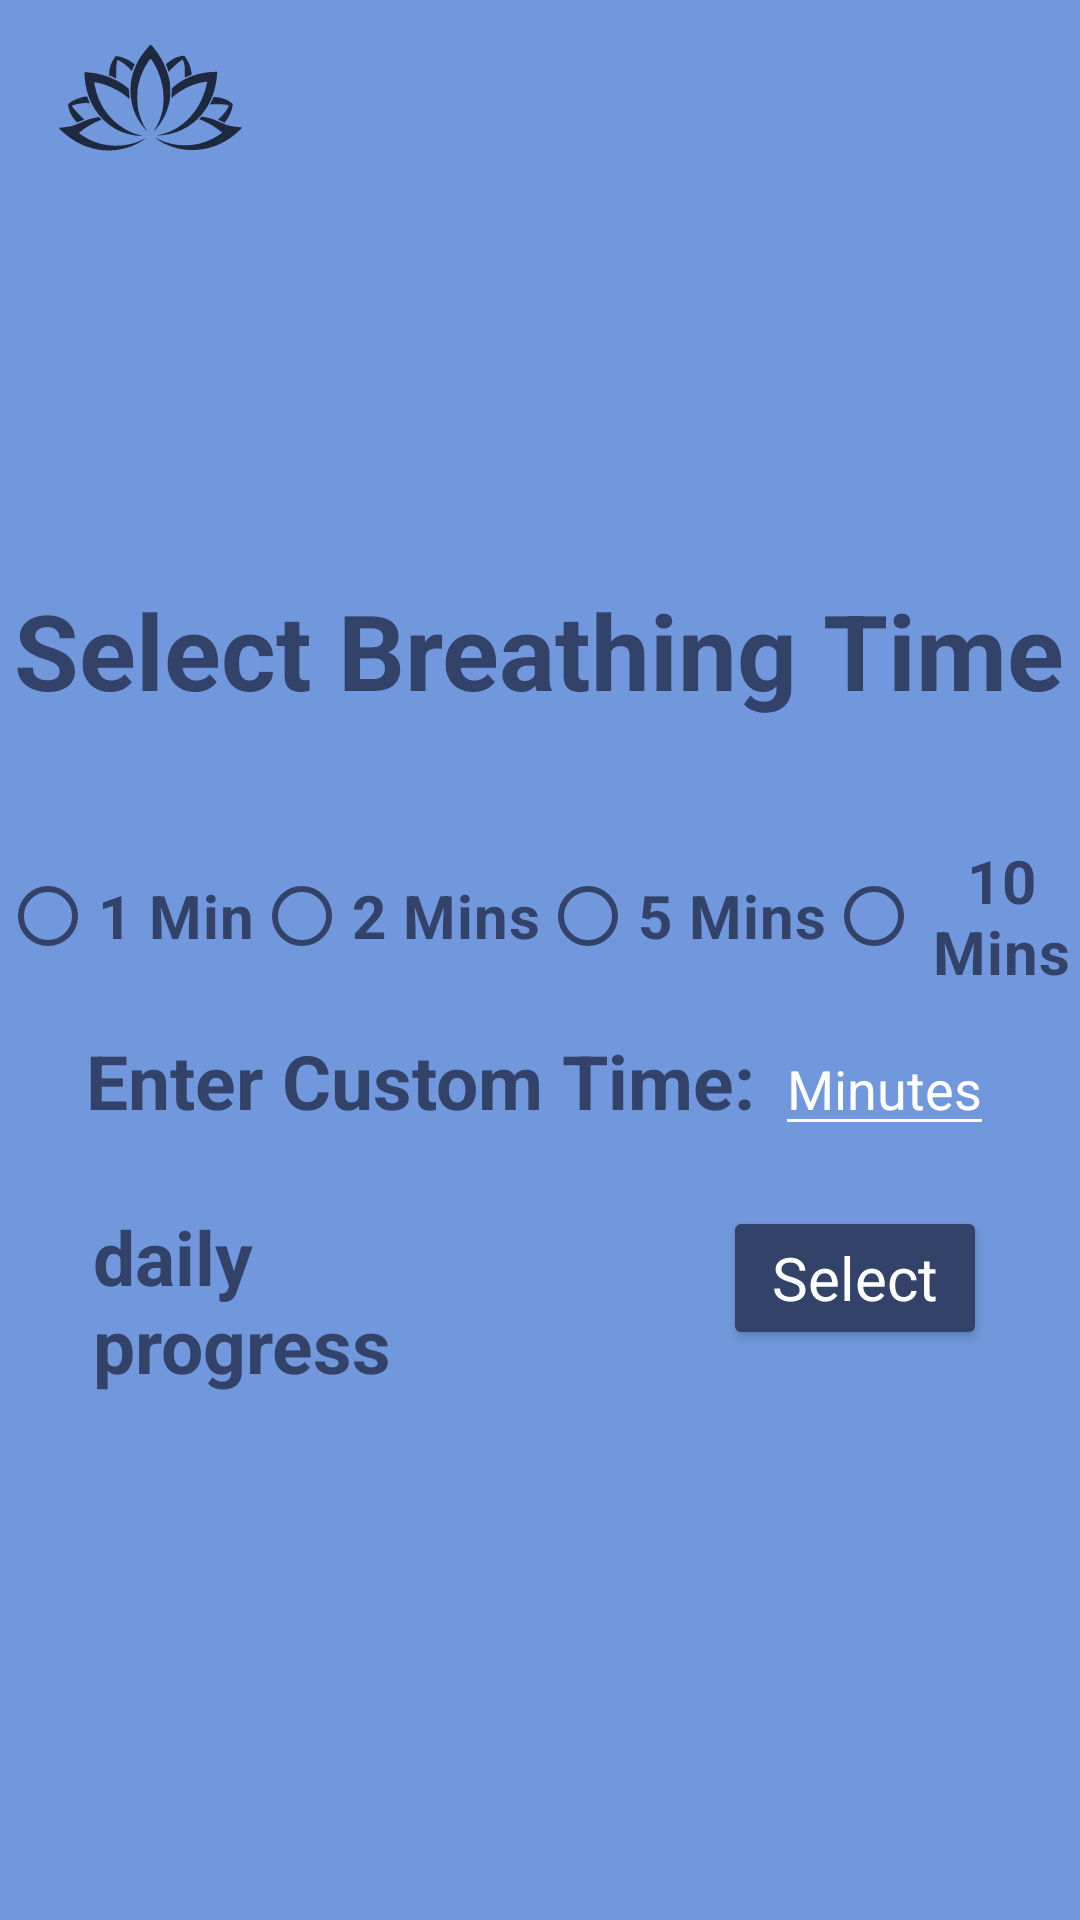

Named icons in this screenshot (1080 x 1920) and their centers, [x,y]:
lotus simple: [150,97]
